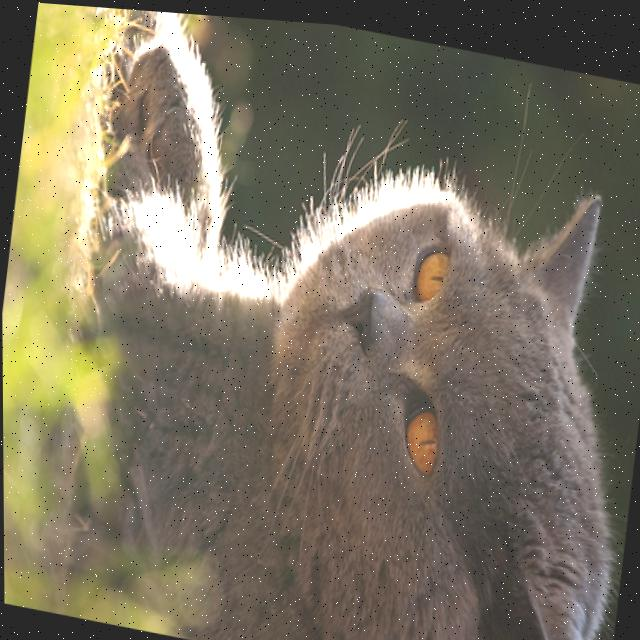British Shorthair: (40, 2, 640, 640)
